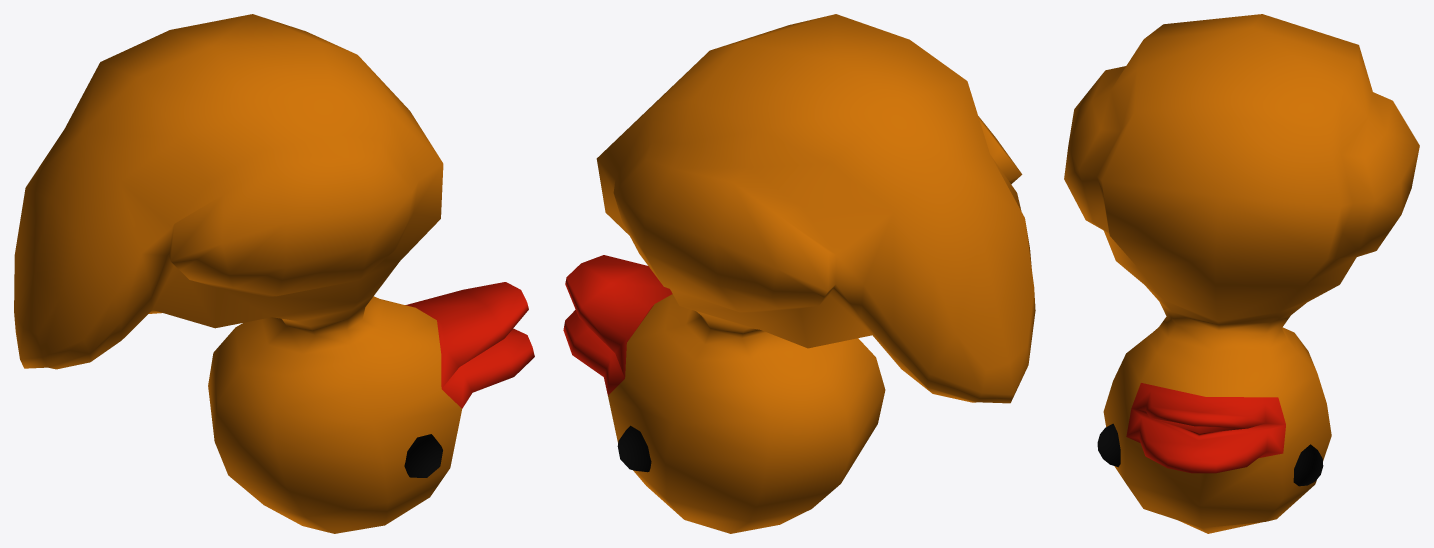
File: rubber_duck.obj
3 views of the same model, side by side, from view 1: azimuth 30°, elevation 25°; view 2: azimuth 150°, elevation 25°; view 3: azimuth 270°, elevation 25° (orthographic). The views are drawn at different scales.
Visible parts, largest first — view 1: dynamic; view 2: dynamic; view 3: dynamic.
Part boxes in pixels (<box>): dynamic: <box>14,14,534,533</box>; dynamic: <box>563,14,1035,533</box>; dynamic: <box>1064,14,1419,533</box>.
Size of the model in its own units: 90.43 by 89.58 by 64.75.
